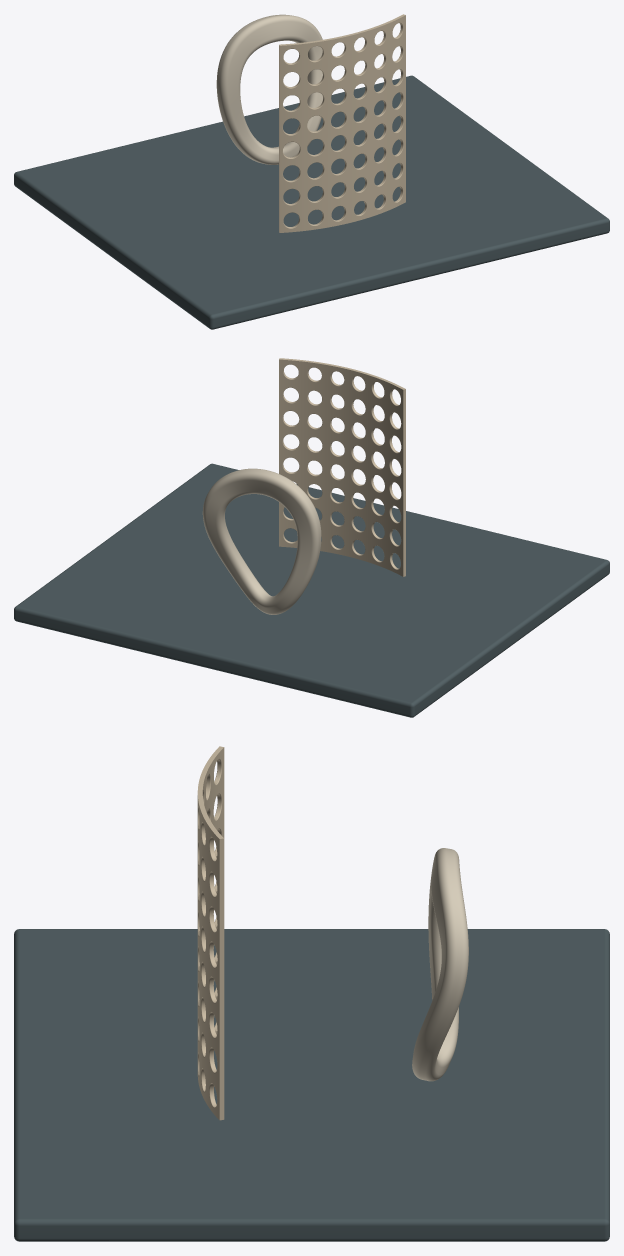
The model's file is aperture-atlas.glb.
3 views of the same model, one above another, from view 1: azimuth 30°, elevation 25°; view 2: azimuth 150°, elevation 25°; view 3: azimuth 270°, elevation 25° (orthographic). The views are drawn at different scales.
Visible parts, largest first — view 1: Aperture Atlas / support, veil / VEIL | continuous perforated shell, orison / ORISON | continuous closed sweep; view 2: Aperture Atlas / support, veil / VEIL | continuous perforated shell, orison / ORISON | continuous closed sweep; view 3: Aperture Atlas / support, veil / VEIL | continuous perforated shell, orison / ORISON | continuous closed sweep.
Boxes of the visible parts, x1,y1,x2,y2 form: Aperture Atlas / support: (14,75,609,329); veil / VEIL | continuous perforated shell: (279,14,405,232); orison / ORISON | continuous closed sweep: (216,14,322,164); Aperture Atlas / support: (14,463,609,717); veil / VEIL | continuous perforated shell: (279,358,405,576); orison / ORISON | continuous closed sweep: (202,468,321,614); Aperture Atlas / support: (14,929,609,1241); veil / VEIL | continuous perforated shell: (197,746,224,1120); orison / ORISON | continuous closed sweep: (412,848,468,1081).
Size of what is drawn, in the model's own units: 1.12 by 0.54 by 0.96.
